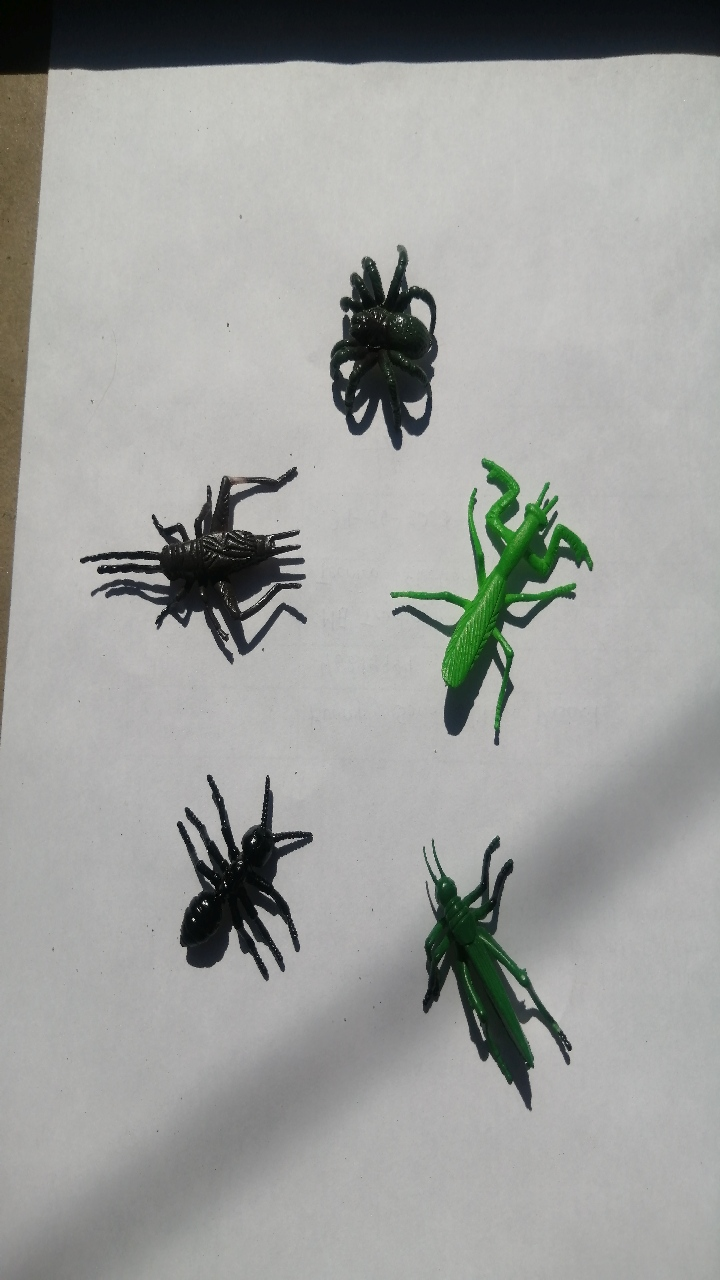intruso: (398, 435, 612, 774), (388, 806, 595, 1120), (58, 463, 337, 680), (131, 739, 329, 994), (315, 202, 458, 462)
